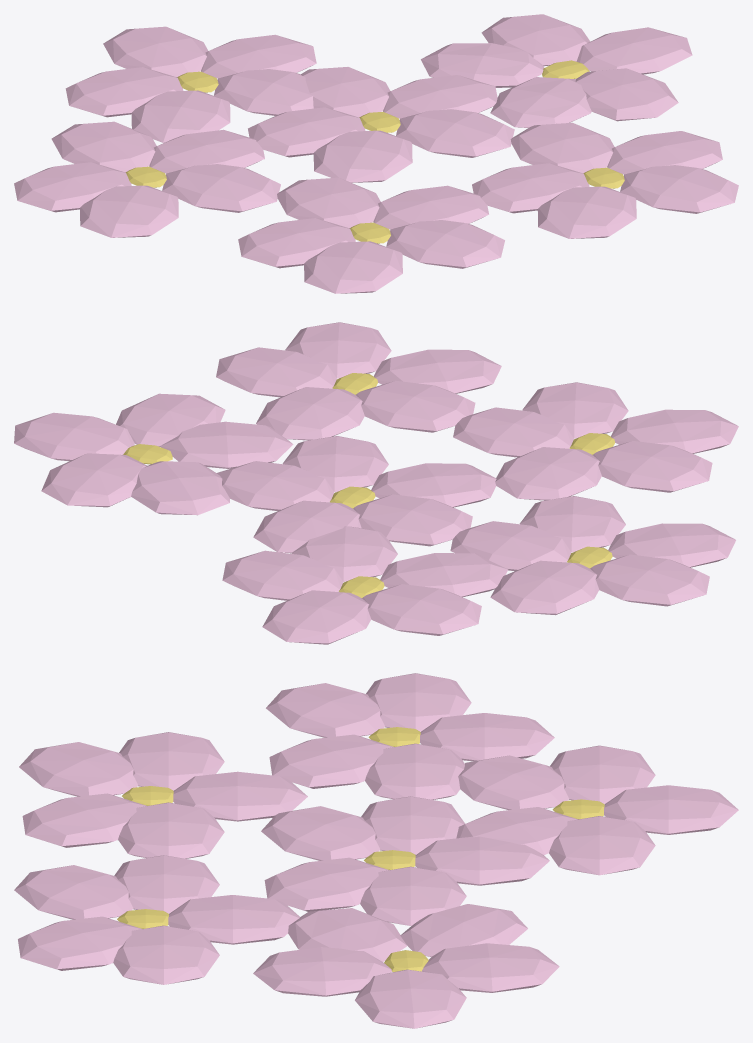
Rendered from flower1.fbx.
The picture shows the model from 3 angles, top to bottom: view 1: azimuth 30°, elevation 25°; view 2: azimuth 150°, elevation 25°; view 3: azimuth 270°, elevation 25°; orthographic projection. The views are drawn at different scales.
Parts seen in each view (by area): view 1: flower1.005; view 2: flower1.005; view 3: flower1.005.
Boxes of the visible parts, x1,y1,x2,y2 form: flower1.005: [14, 14, 738, 293]; flower1.005: [14, 322, 738, 644]; flower1.005: [14, 673, 738, 1028].
Bounding box in the file's own units: 298 × 8.29 × 257.
